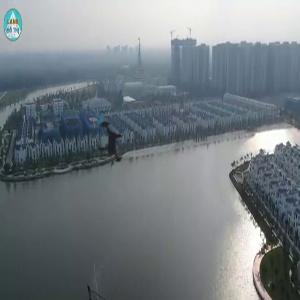drone: (73, 107, 150, 184)
